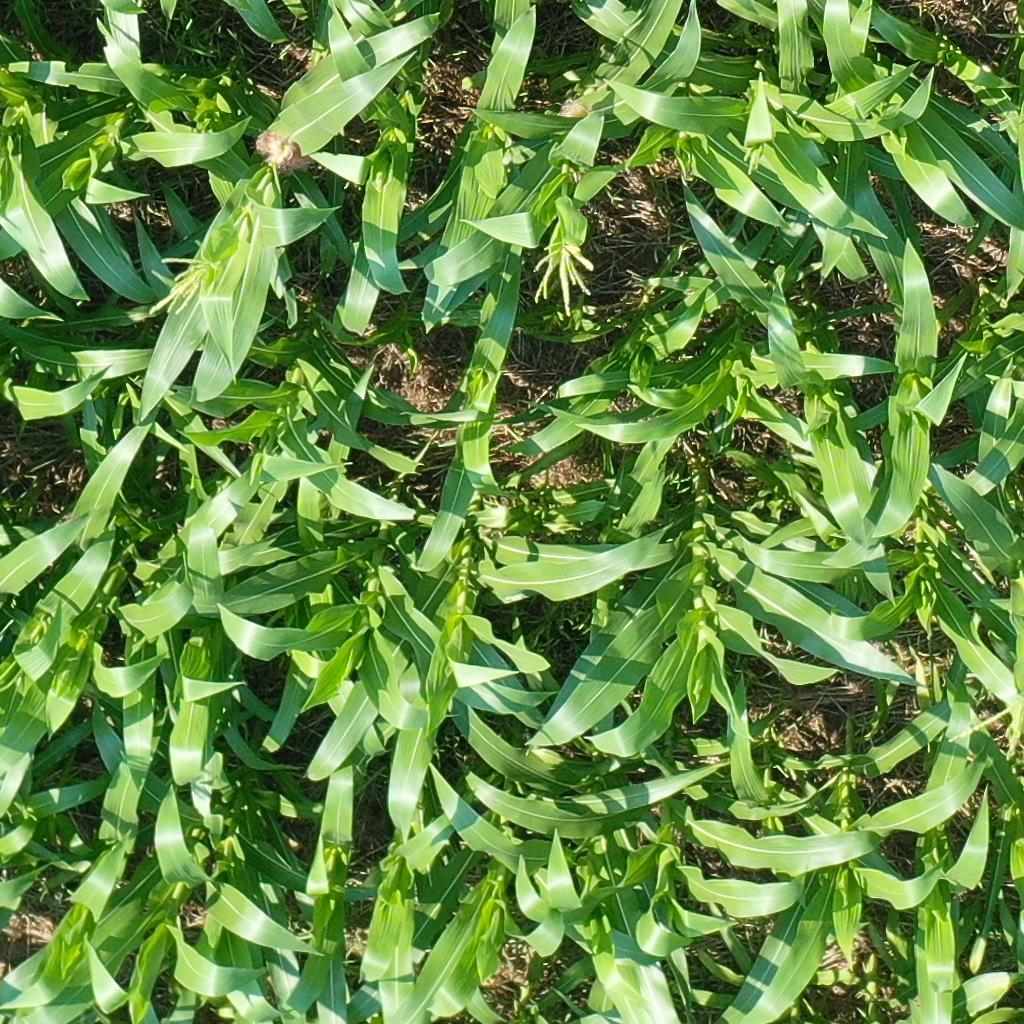Tassel: (139, 238, 220, 318), (524, 236, 598, 318), (945, 690, 1024, 764), (741, 136, 768, 175)
